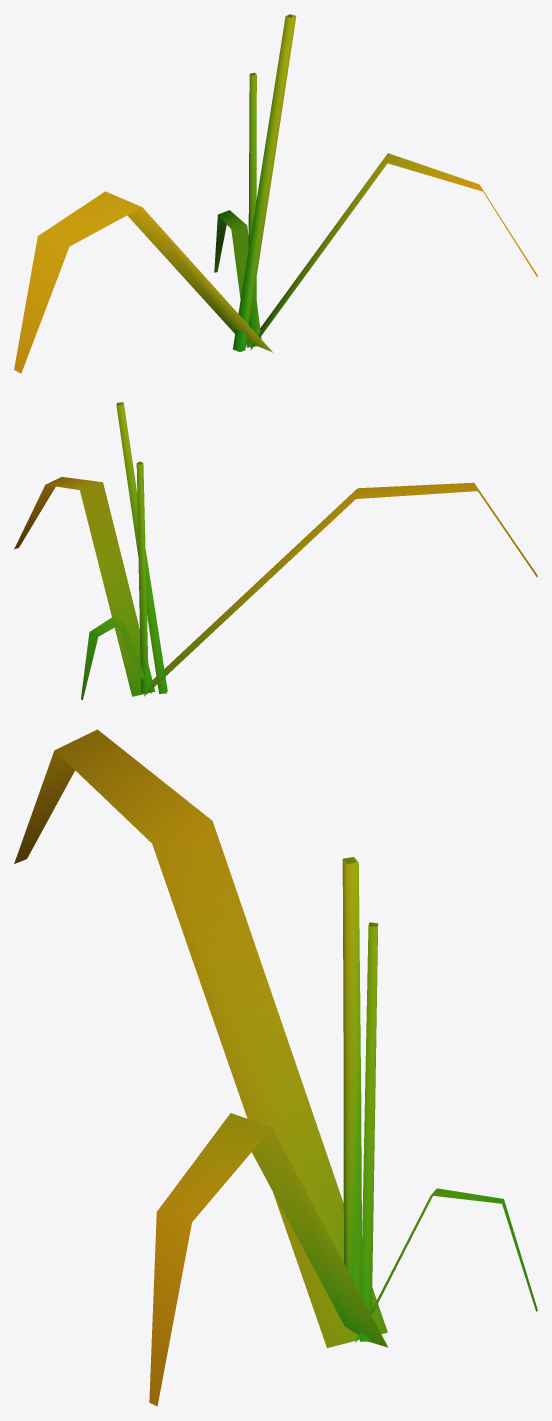
File: SM_OatPlant_14.fbx
The picture shows the model from 3 angles, top to bottom: view 1: azimuth 30°, elevation 25°; view 2: azimuth 150°, elevation 25°; view 3: azimuth 270°, elevation 25°; orthographic projection. The views are drawn at different scales.
Visible parts, largest first — view 1: SM_OatPlant_14; view 2: SM_OatPlant_14; view 3: SM_OatPlant_14.
Part boxes in pixels (bbox=[...]): SM_OatPlant_14: bbox=[14, 14, 537, 373]; SM_OatPlant_14: bbox=[14, 402, 537, 700]; SM_OatPlant_14: bbox=[14, 729, 537, 1406].
Size of the model in its own units: 0.7977 by 0.4383 by 0.4101.
